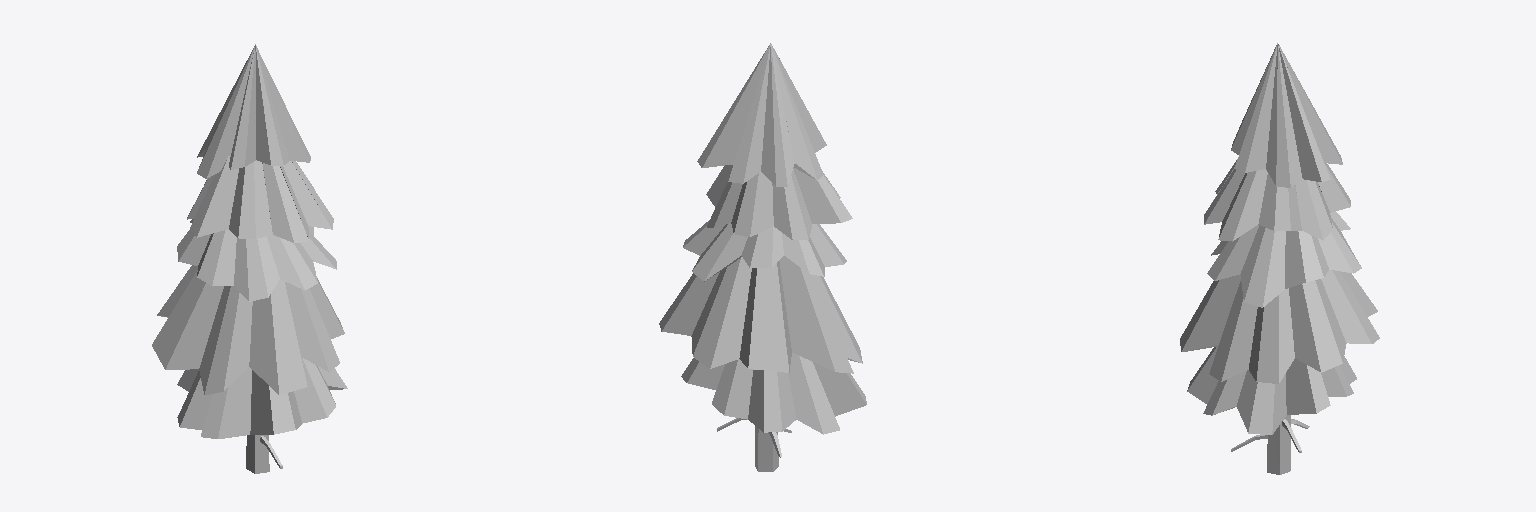
Rendered from Forest_A_FirTree_07.obj.
The picture shows the model from 3 angles: view 1: azimuth 30°, elevation 25°; view 2: azimuth 150°, elevation 25°; view 3: azimuth 270°, elevation 25°; orthographic projection.
Visible parts, largest first — view 1: Forest_A_FirTree_07; view 2: Forest_A_FirTree_07; view 3: Forest_A_FirTree_07.
Part boxes in pixels (bbox=[...]): Forest_A_FirTree_07: bbox=[152, 44, 347, 473]; Forest_A_FirTree_07: bbox=[659, 43, 866, 471]; Forest_A_FirTree_07: bbox=[1180, 43, 1379, 474].
Size of the model in its own units: 245 by 564 by 241.